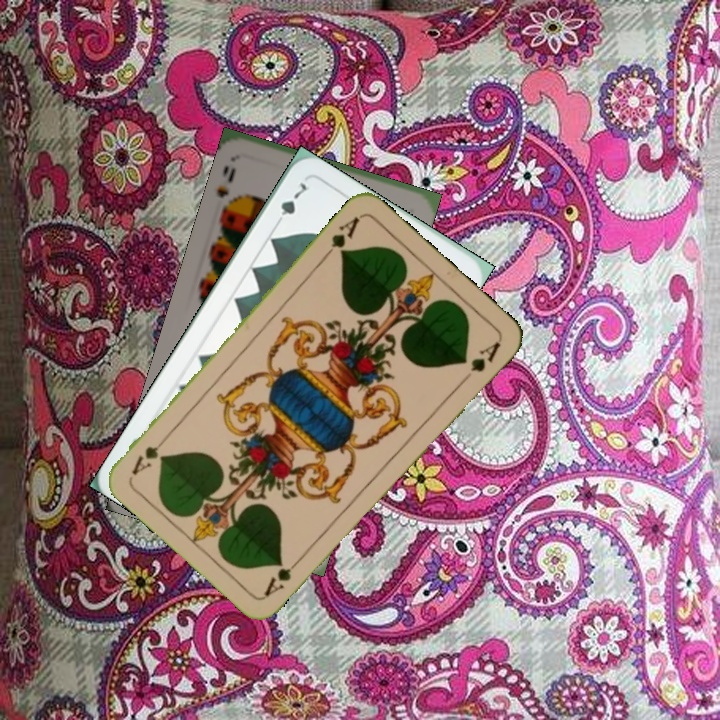G7: (270, 178, 310, 230)
GA: (260, 552, 306, 600), (319, 212, 363, 262)
S9: (213, 163, 238, 214)
